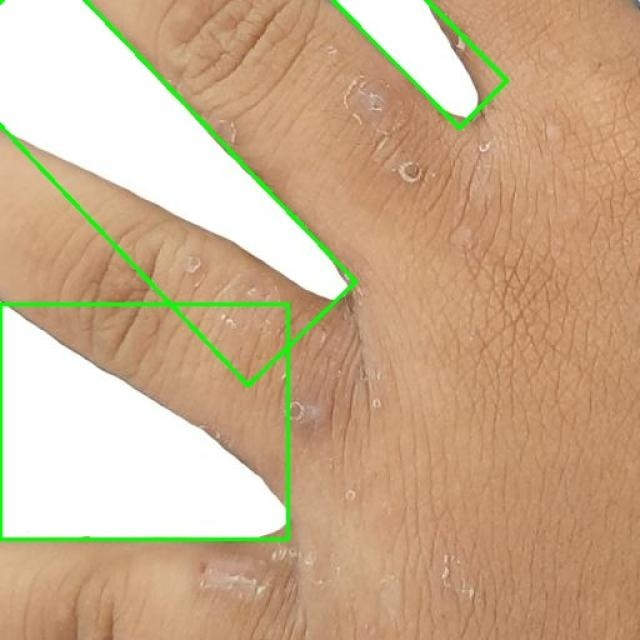Scabies: (0, 0, 356, 390), (0, 304, 288, 539), (332, 0, 507, 128)
